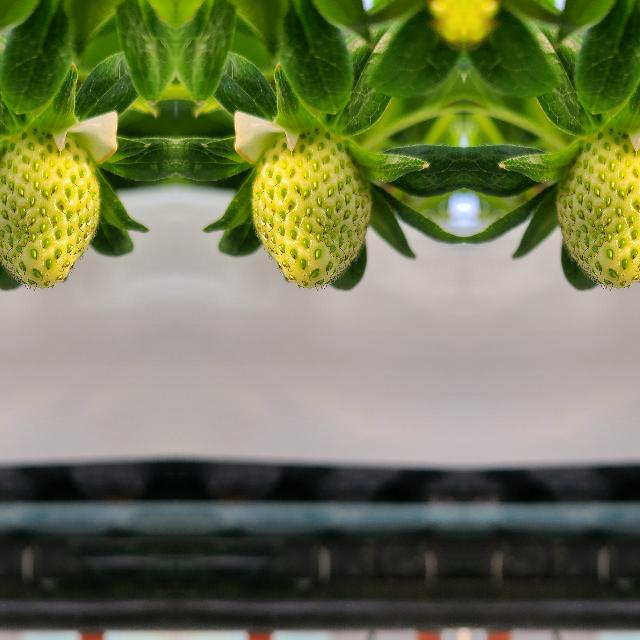Health_25: (248, 131, 372, 291), (0, 131, 102, 291), (553, 131, 640, 291)
